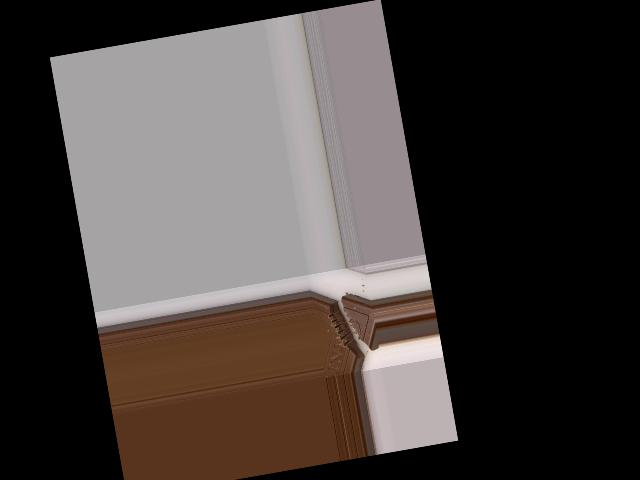chocolate: (311, 279, 383, 377)
